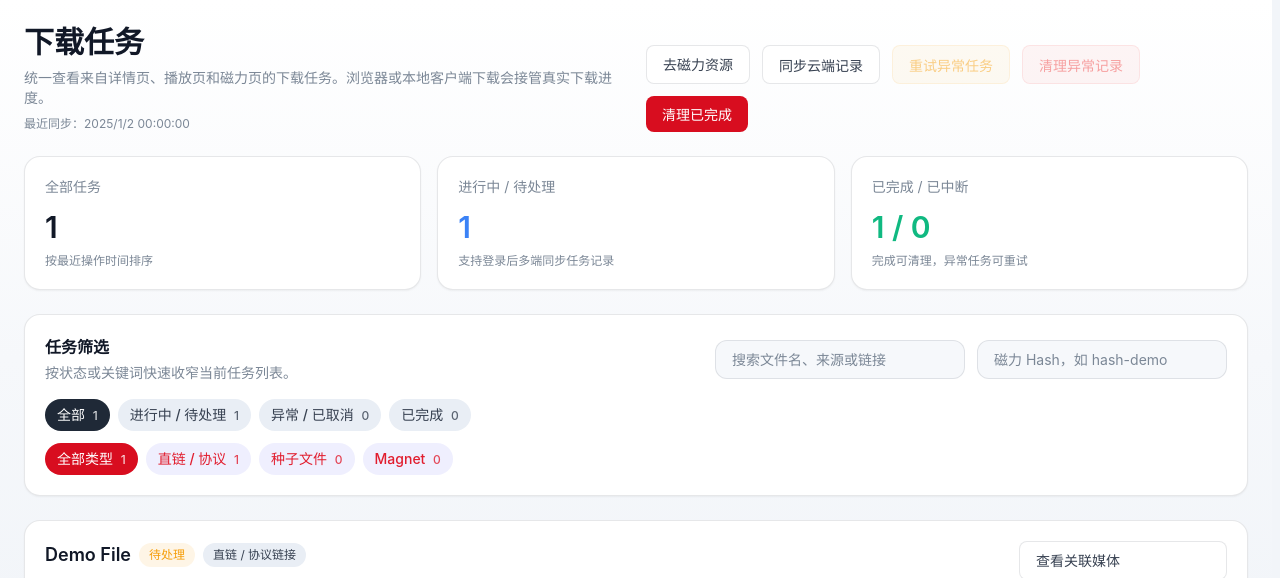
Test case: DownloadsView › shows partial-success feedback when remote clear fails
Step 1. Click the button "清理已完成" → click(697, 114), box x1=646 y1=96 x2=748 y2=132
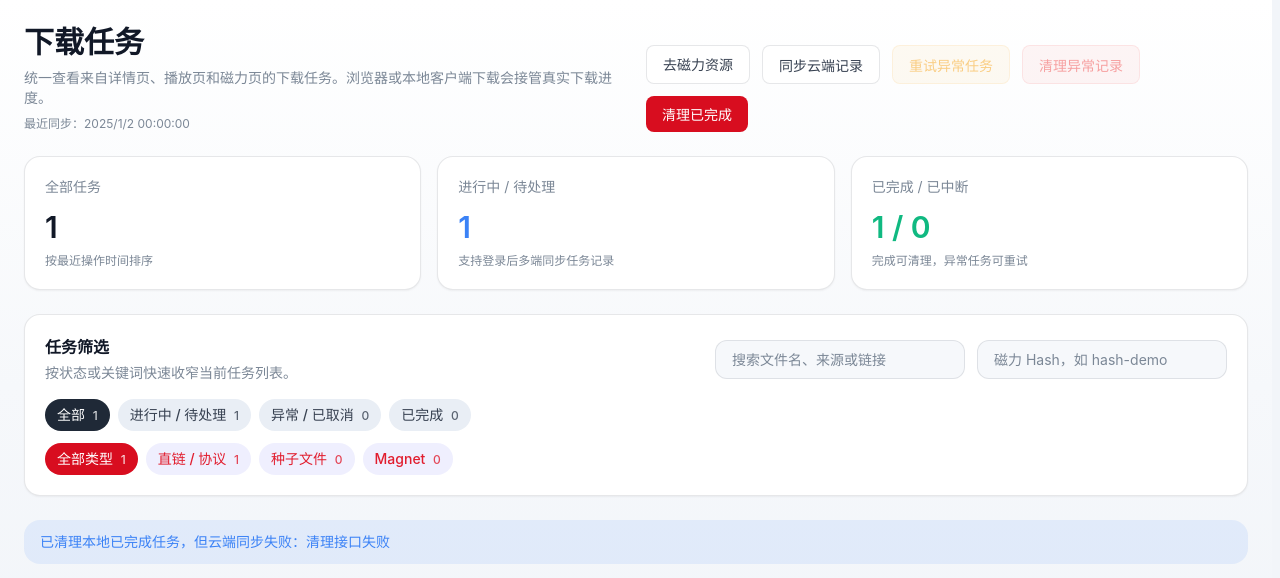
Check: the text "已清理本地已完成任务，但云端同步失败：清理接口失败" is shown, box x1=24 y1=520 x2=1248 y2=564
